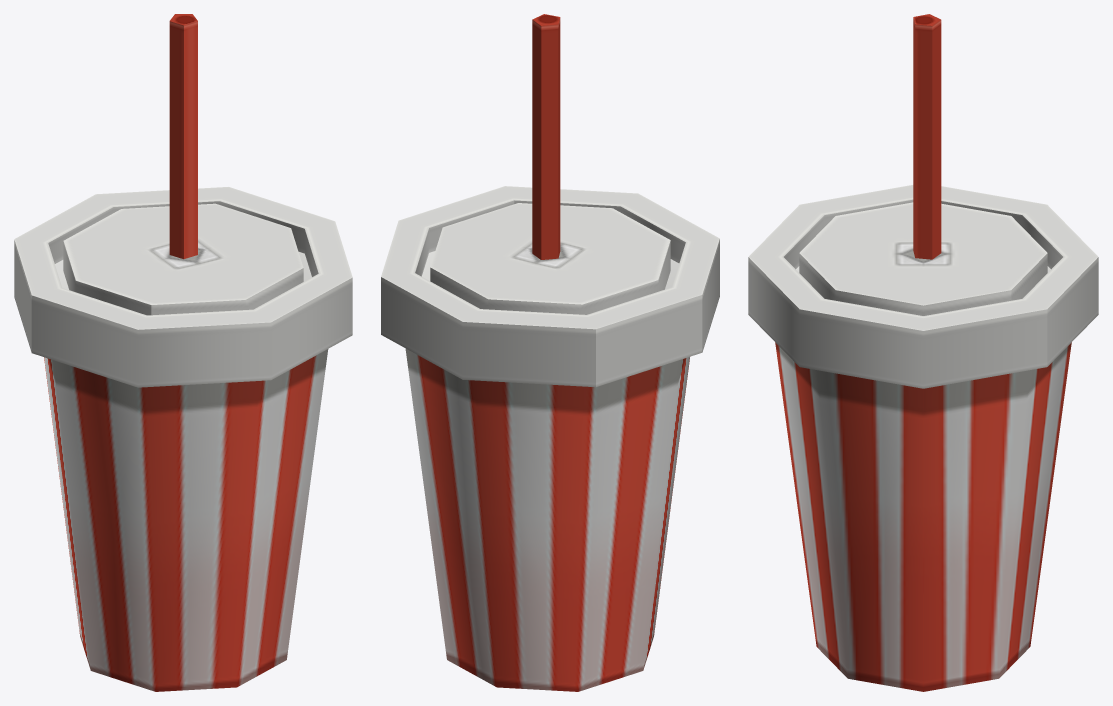
Rendered from coke cup.FBX.
3 renders of one model, left to right at view 1: azimuth 30°, elevation 25°; view 2: azimuth 150°, elevation 25°; view 3: azimuth 270°, elevation 25°, orthographic.
Parts seen in each view (by area): view 1: coke cup; view 2: coke cup; view 3: coke cup.
Part boxes in pixels (bbox=[...]): coke cup: bbox=[14, 14, 352, 691]; coke cup: bbox=[381, 14, 719, 691]; coke cup: bbox=[748, 14, 1098, 691].
Bounding box in the file's own units: 5.98 × 11.82 × 5.98.
